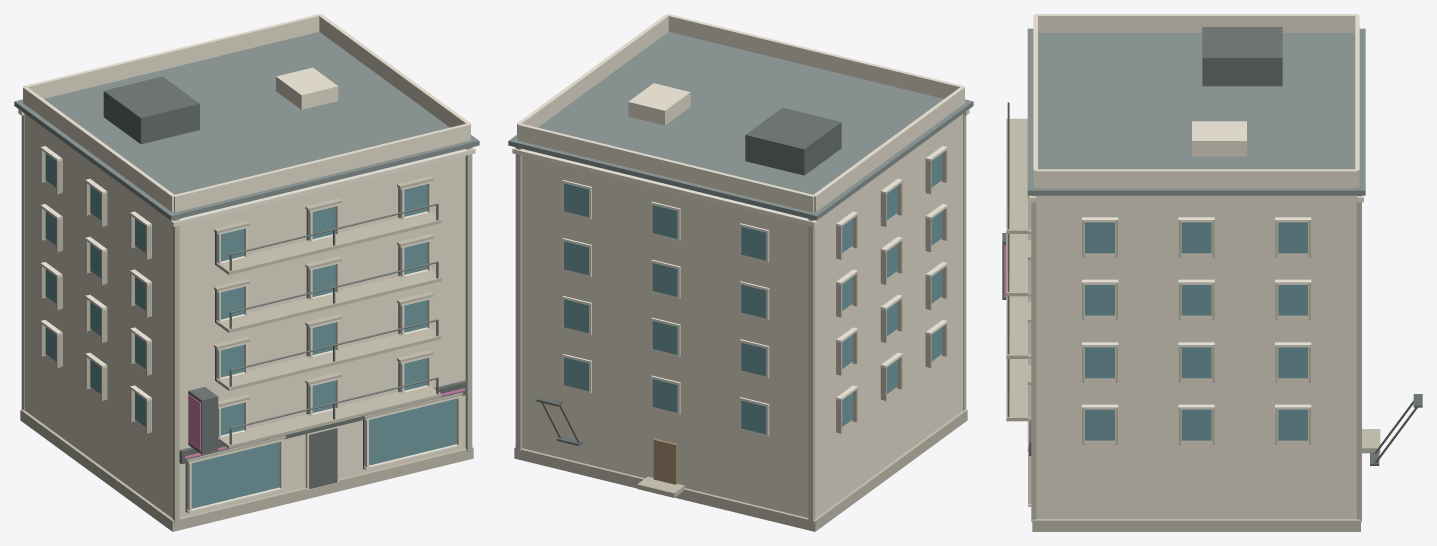
The picture shows the model from 3 angles, left to right: view 1: azimuth 30°, elevation 25°; view 2: azimuth 150°, elevation 25°; view 3: azimuth 270°, elevation 25°; orthographic projection. The views are drawn at different scales.
Bounding box in the file's own units: 16.7 × 17.83 × 18.3.
